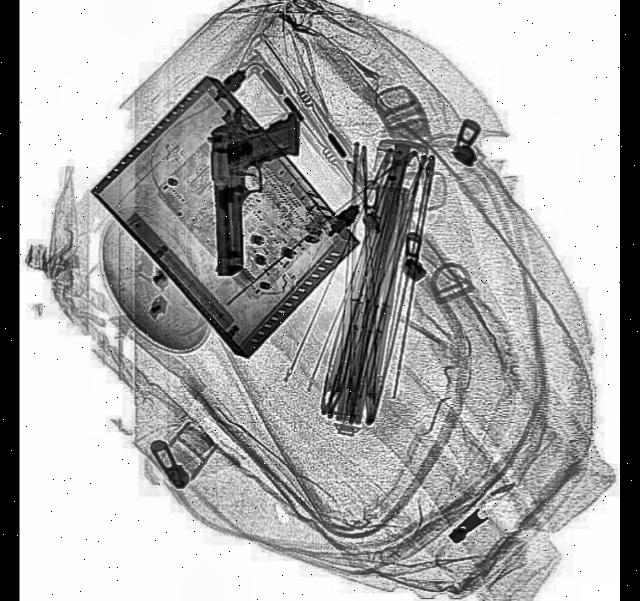Gun: (207, 96, 310, 276)
